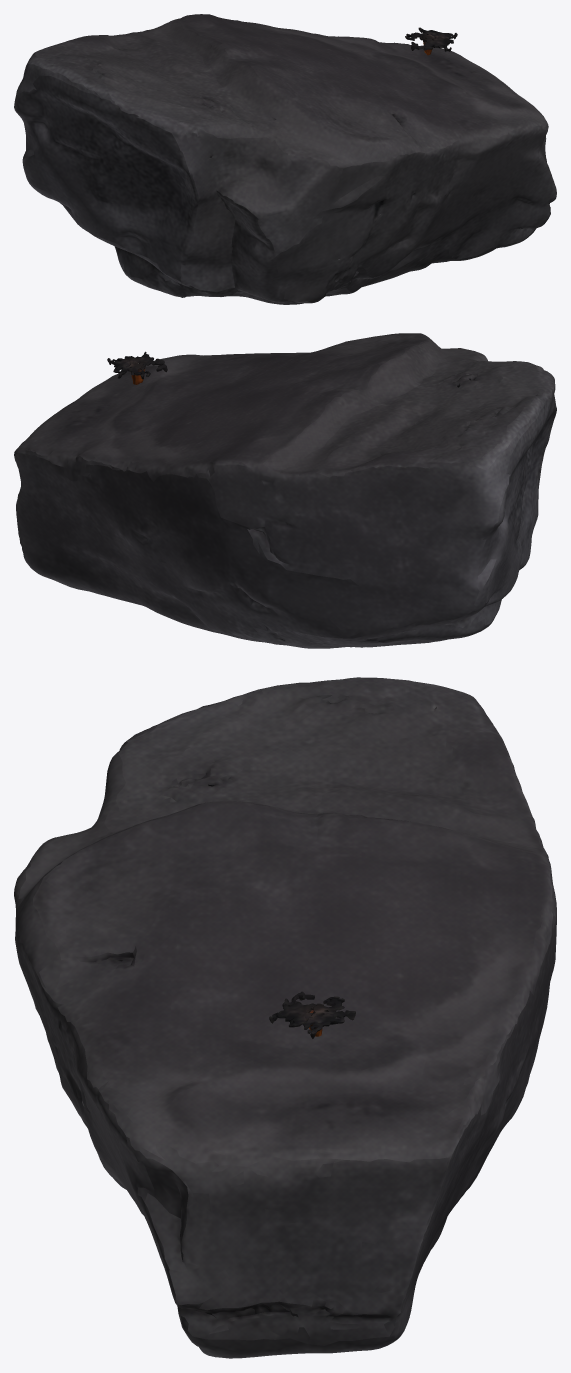
The picture shows the model from 3 angles, top to bottom: view 1: azimuth 30°, elevation 25°; view 2: azimuth 150°, elevation 25°; view 3: azimuth 270°, elevation 25°; orthographic projection. The views are drawn at different scales.
Visible parts, largest first — view 1: world; view 2: world; view 3: world.
Part boxes in pixels (box(x1,y1,x2,y2)): world: box(14, 14, 556, 304); world: box(14, 333, 556, 648); world: box(14, 677, 556, 1358).
Bounding box in the file's own units: 3.5 × 1.76 × 2.33.
1 material, 1 textured.
